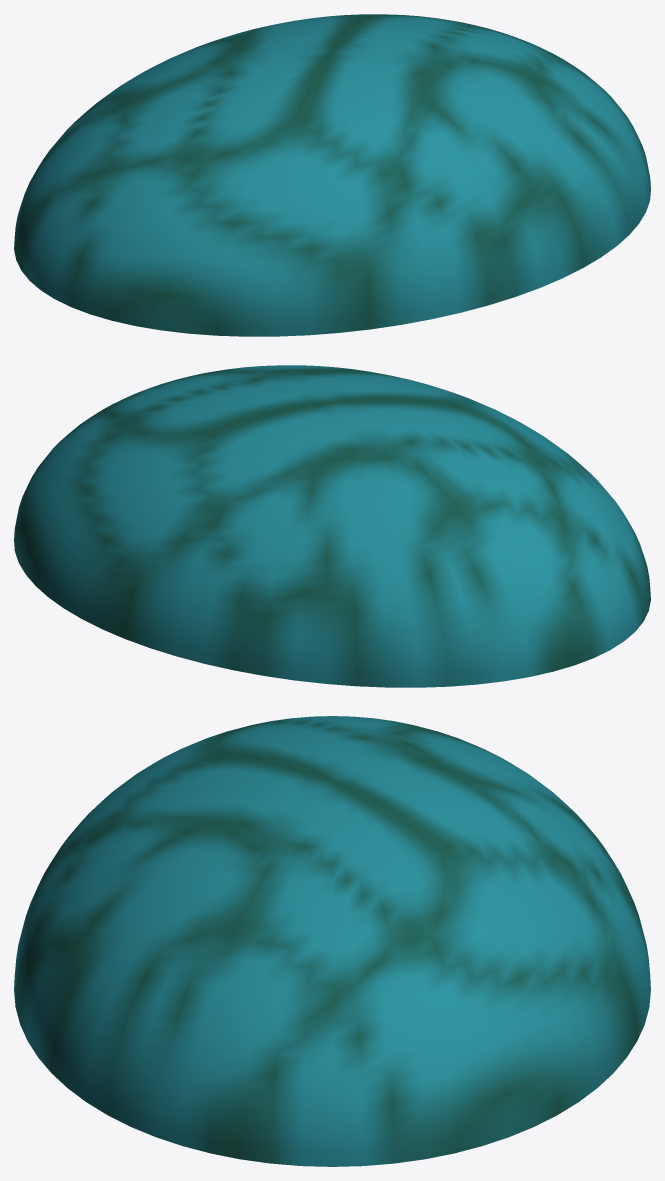
Rendered from chrysocolla.glb.
3 renders of one model, top to bottom at view 1: azimuth 30°, elevation 25°; view 2: azimuth 150°, elevation 25°; view 3: azimuth 270°, elevation 25°, orthographic. The views are drawn at different scales.
Parts seen in each view (by area): view 1: chrysocolla; view 2: chrysocolla; view 3: chrysocolla.
Part boxes in pixels (x1,y1,x2,y2): chrysocolla: (14, 14, 650, 336); chrysocolla: (14, 365, 650, 687); chrysocolla: (14, 716, 650, 1166).
Size of the model in its own units: 0.25 by 0.0688 by 0.19.
